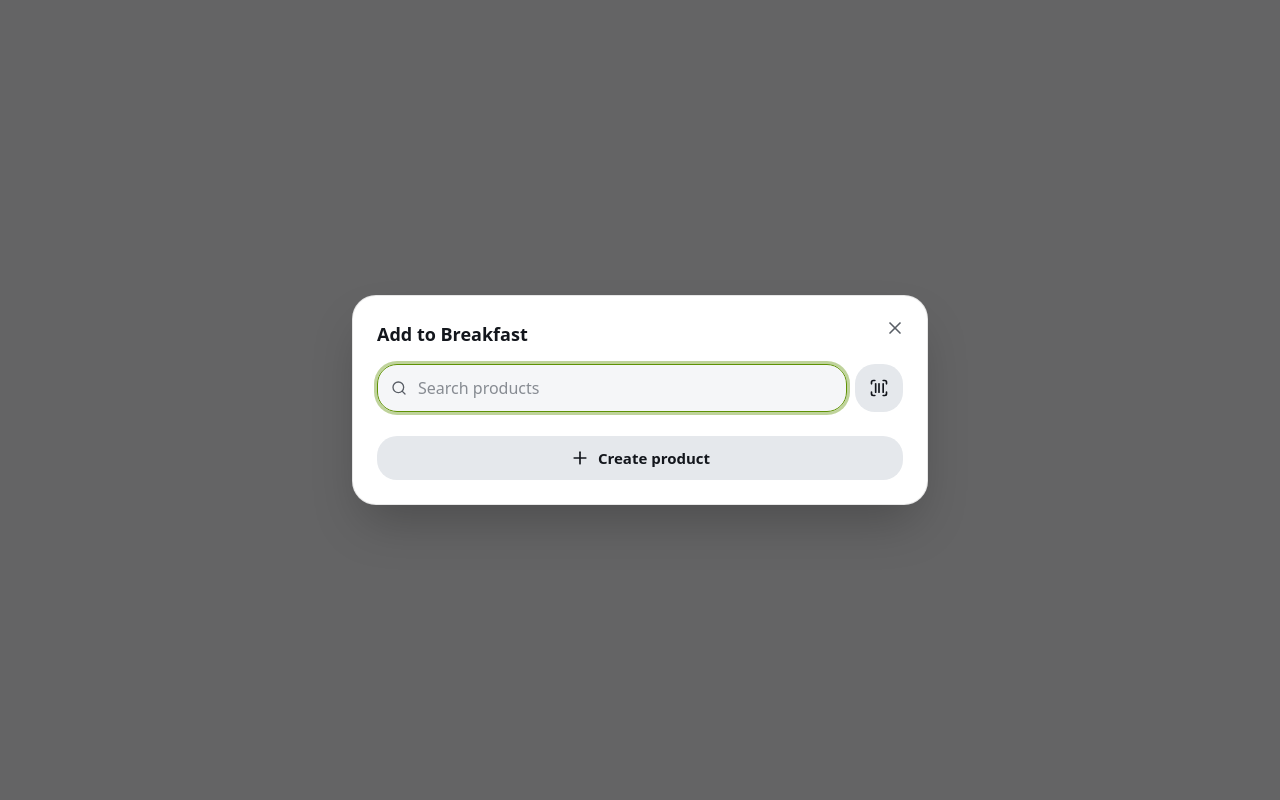
Scenario: creates a missing product and continues to the amount
Type "Oat flakes" into the search field labelled "Search products" at (612, 388), box [377,364,847,412]
Click the button "Create product" at (640, 458), box [377,436,903,480]
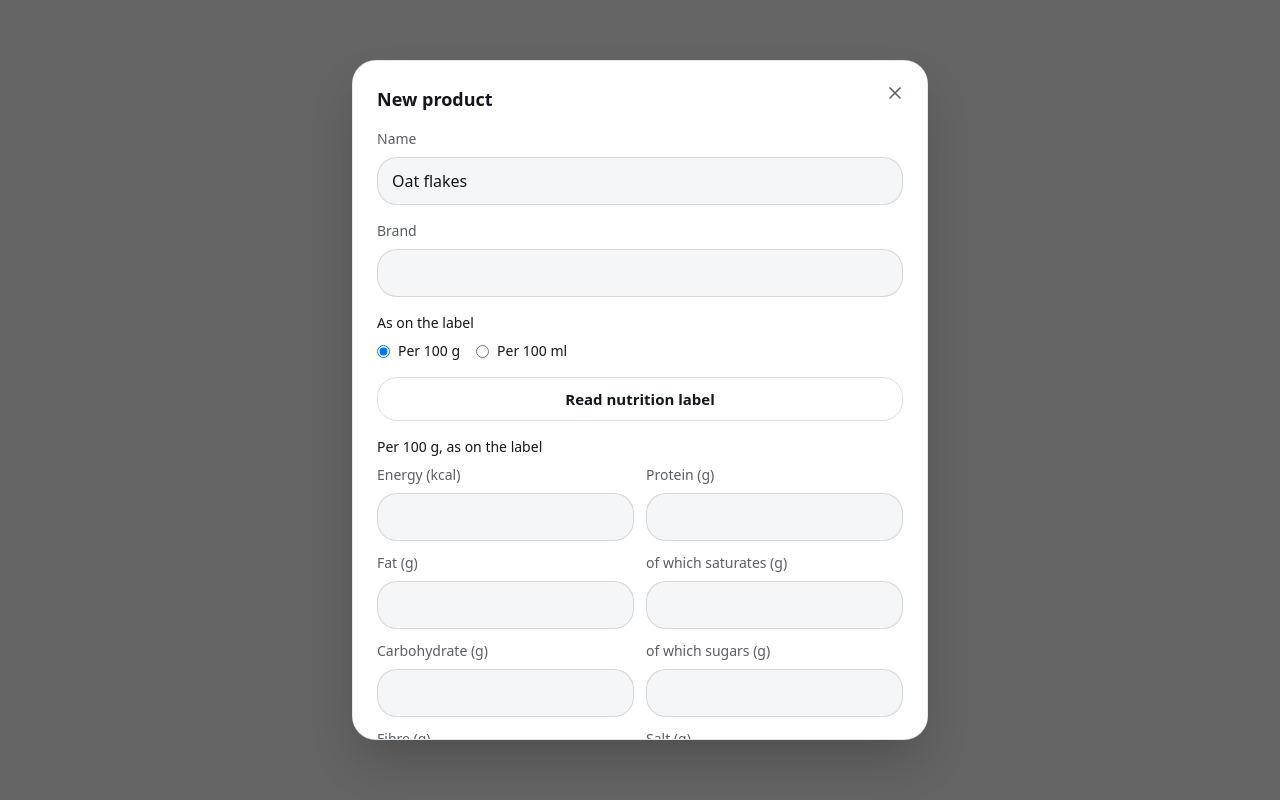
Check: the field labelled "Name" holds "Oat flakes", box [377,157,903,205]
Type "372" into the number field labelled "Energy (kcal)" at (506, 517), box [377,493,634,541]
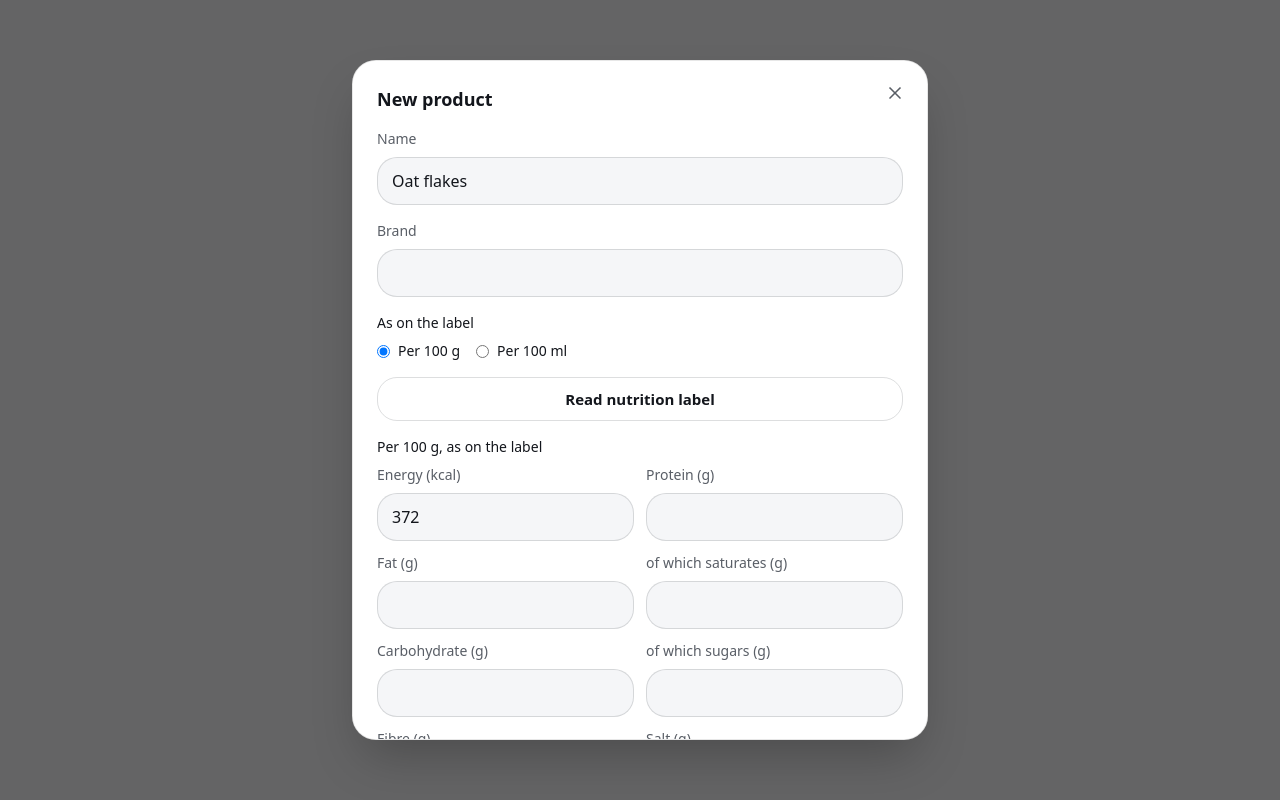
Type "13" into the number field labelled "Protein (g)" at (774, 517), box [646,493,903,541]
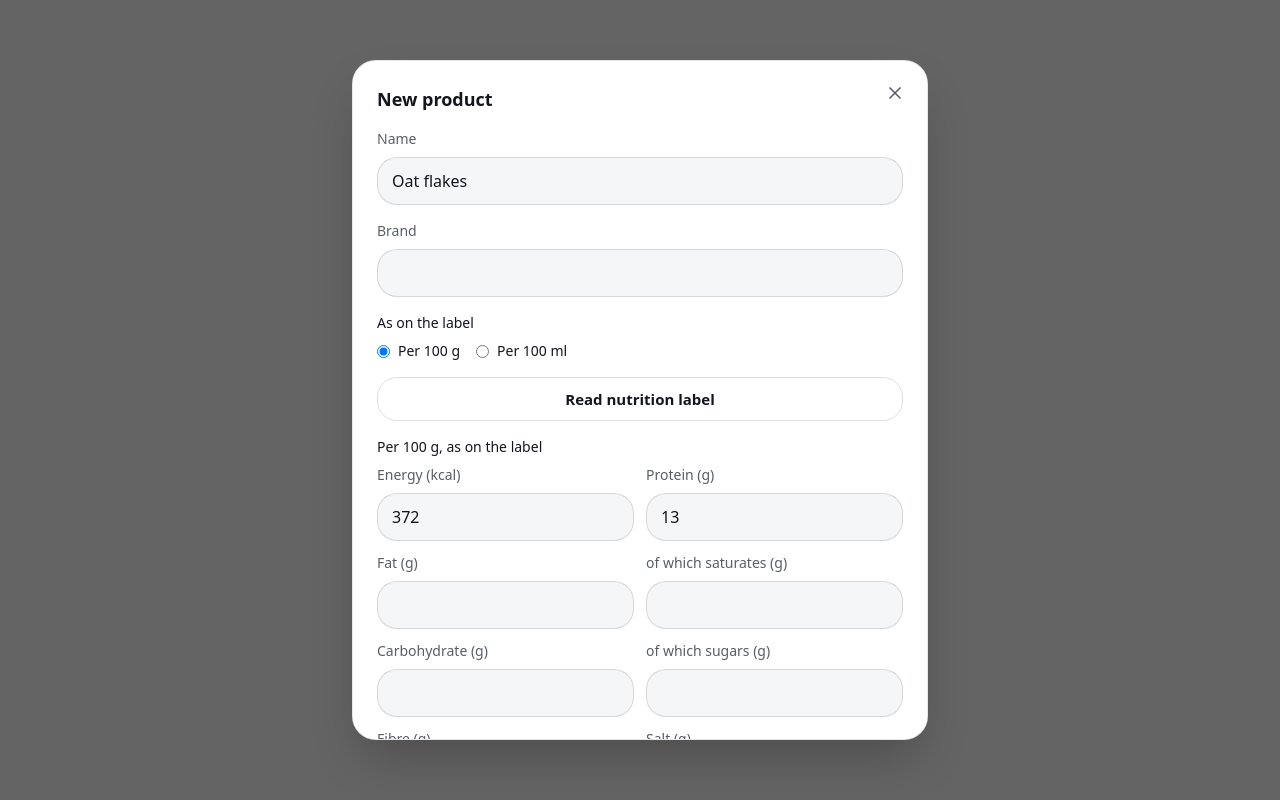
Type "7" into the number field labelled "Fat (g)" at (506, 605), box [377,581,634,629]
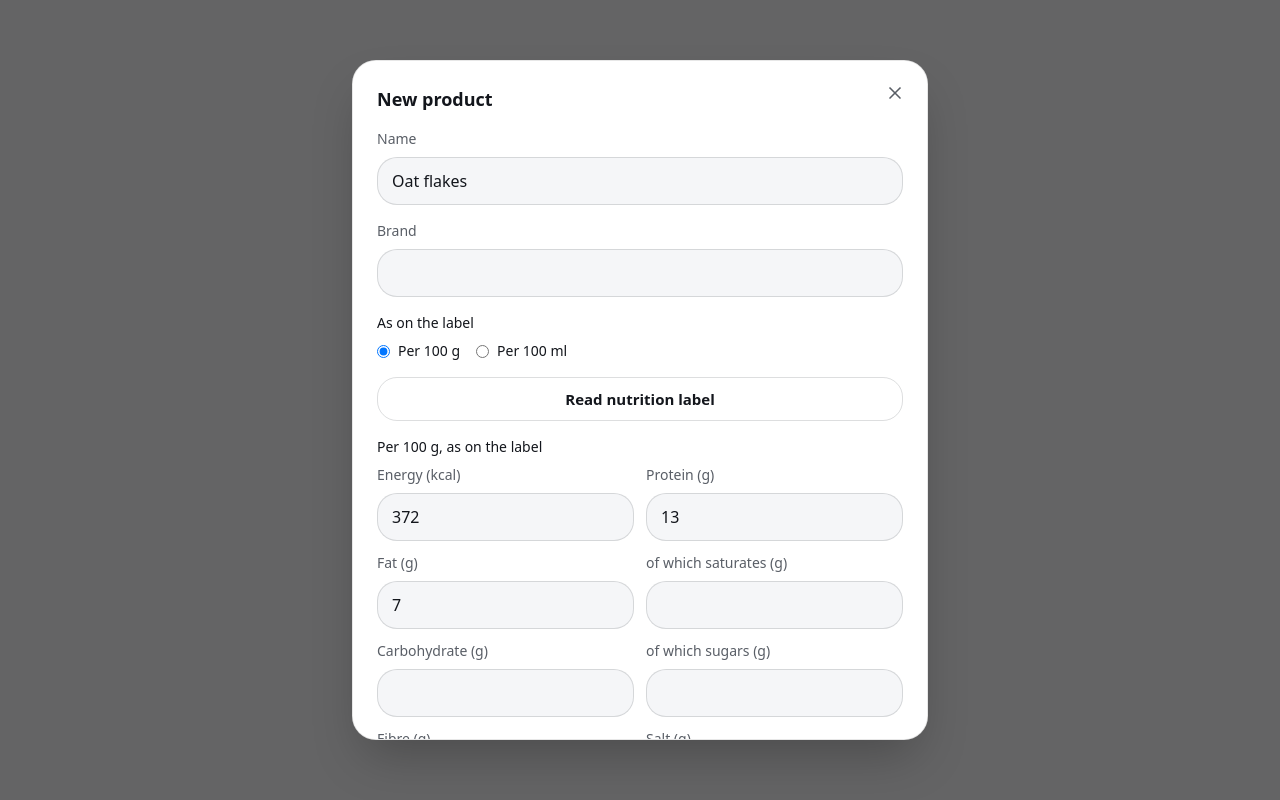
Type "60" into the number field labelled "Carbohydrate (g)" at (506, 693), box [377,669,634,717]
(page scrolled)
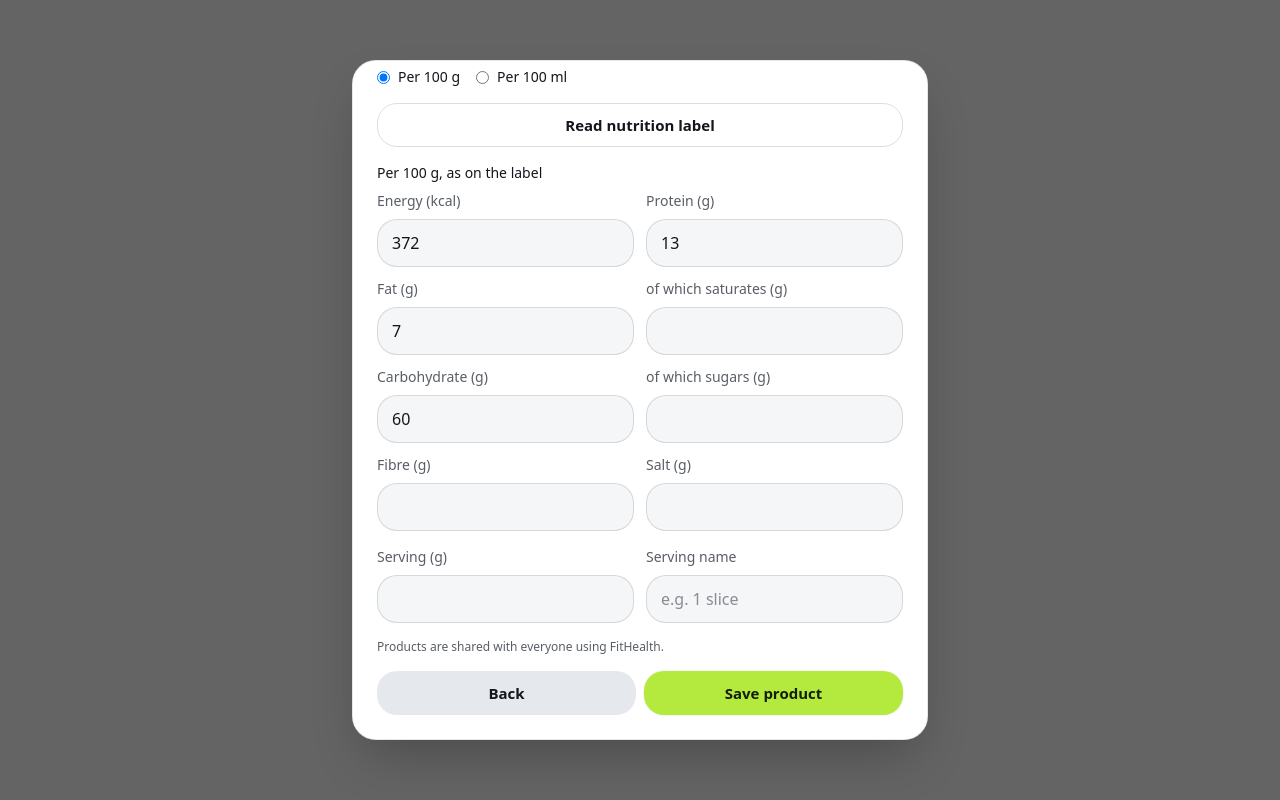
Click the button "Save product" at (774, 693), box [644,671,903,715]
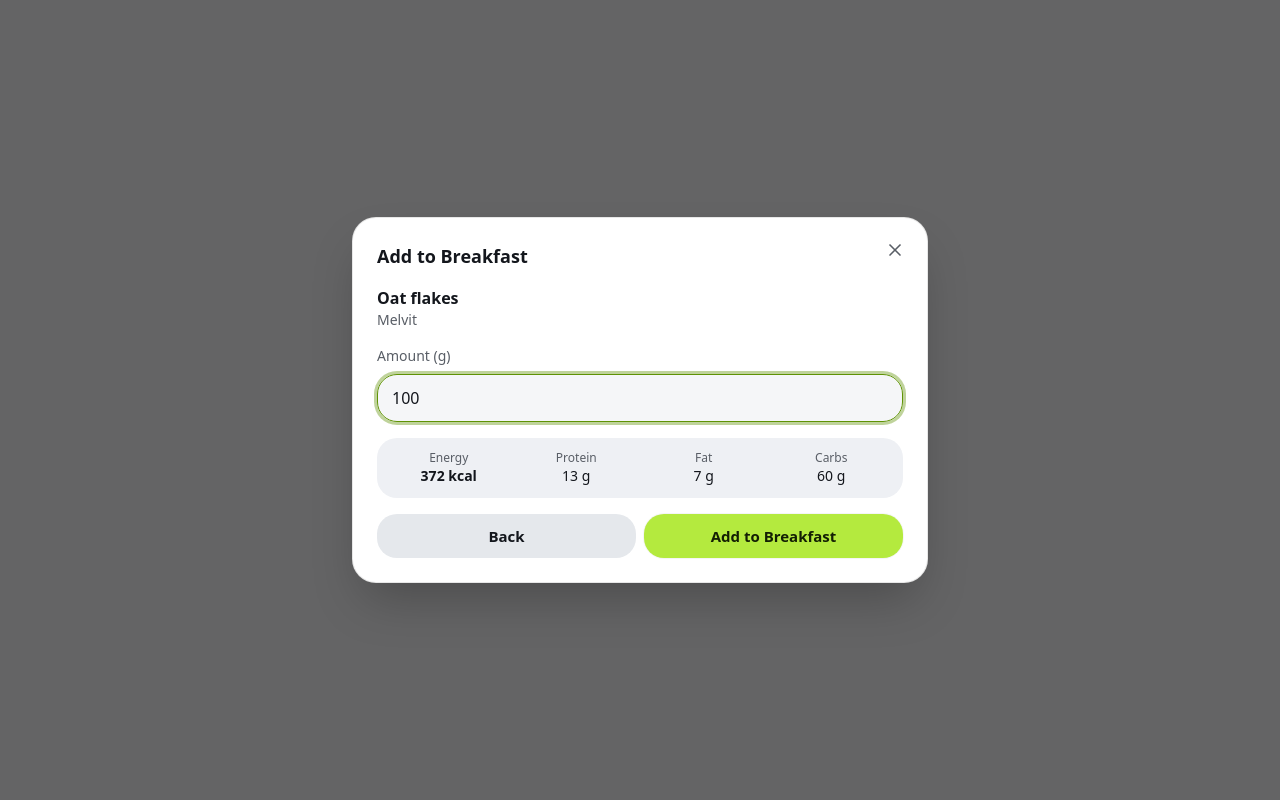
Check: the number field labelled "Amount (g)" holds "100", box [377,374,903,422]
